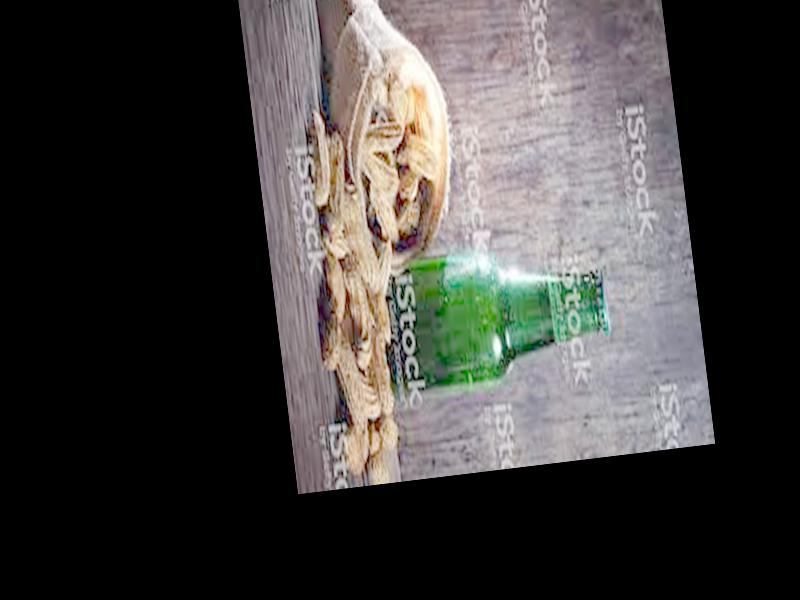Beer: (358, 232, 618, 398)
